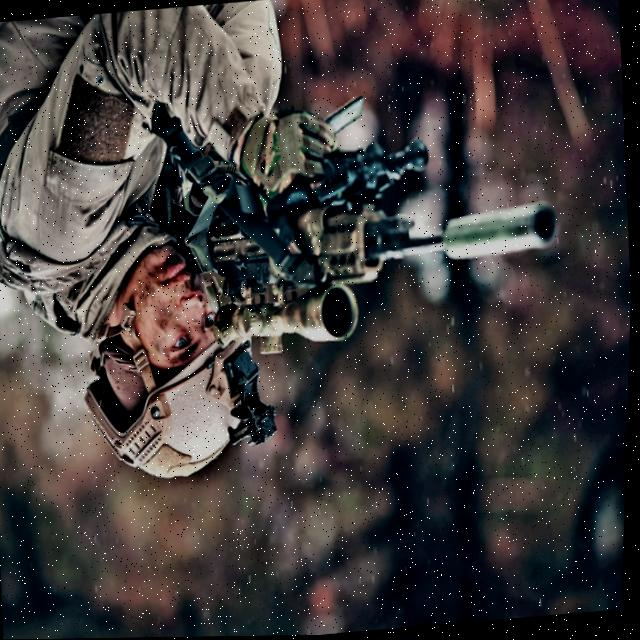firearm: (196, 144, 566, 363)
